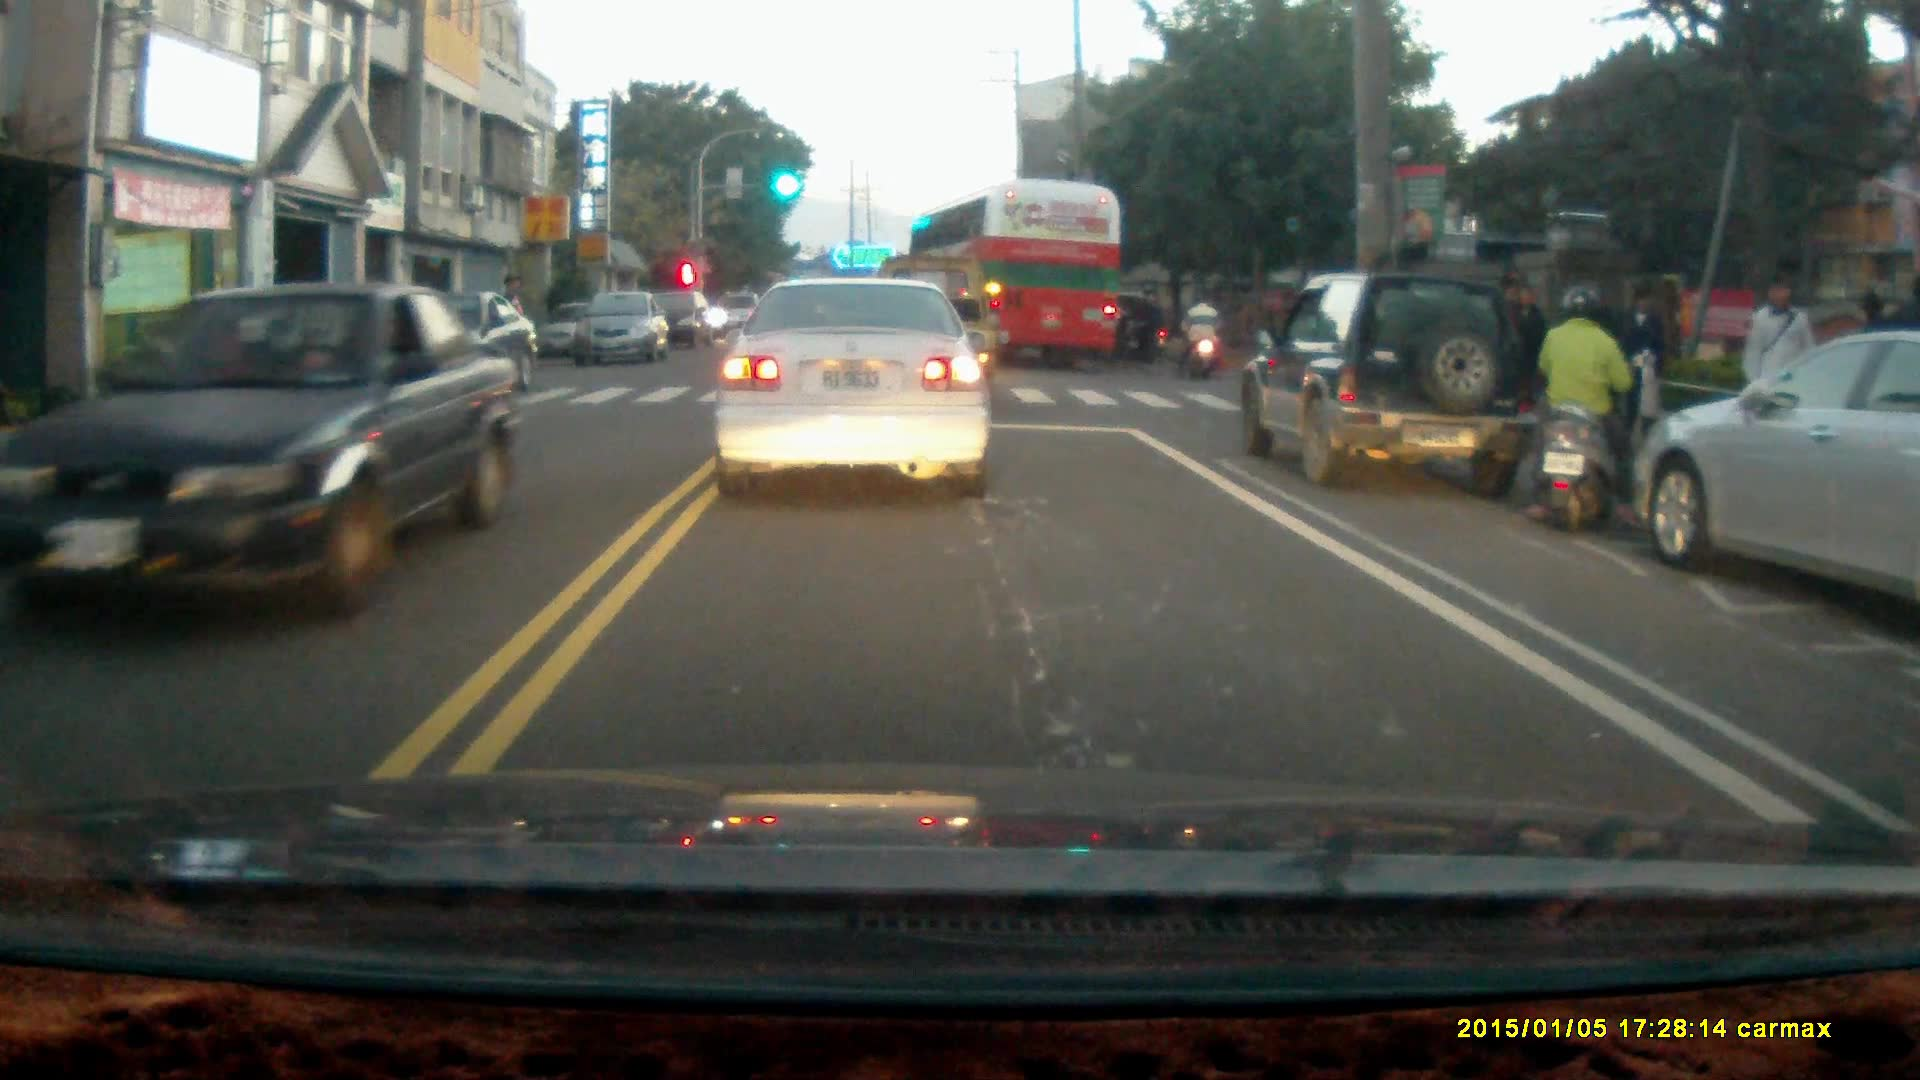pedestrian: (1741, 271, 1819, 445), (1611, 282, 1667, 453)
rider: (1525, 285, 1648, 531), (1107, 291, 1171, 364), (1179, 289, 1222, 378)
vehicle: (13, 281, 515, 628), (1636, 334, 1920, 635), (1235, 273, 1543, 495), (710, 272, 998, 503), (901, 179, 1132, 376), (576, 292, 672, 368), (635, 286, 721, 355)
